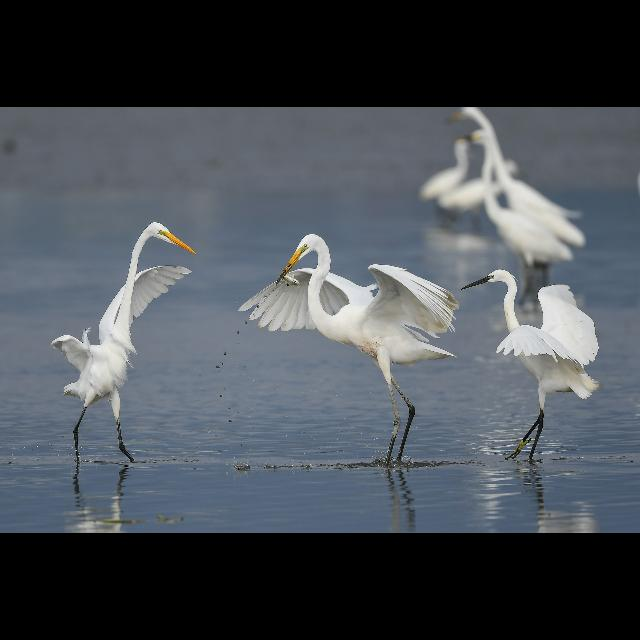egret: (234, 226, 462, 474), (49, 218, 199, 478), (464, 252, 606, 458)
